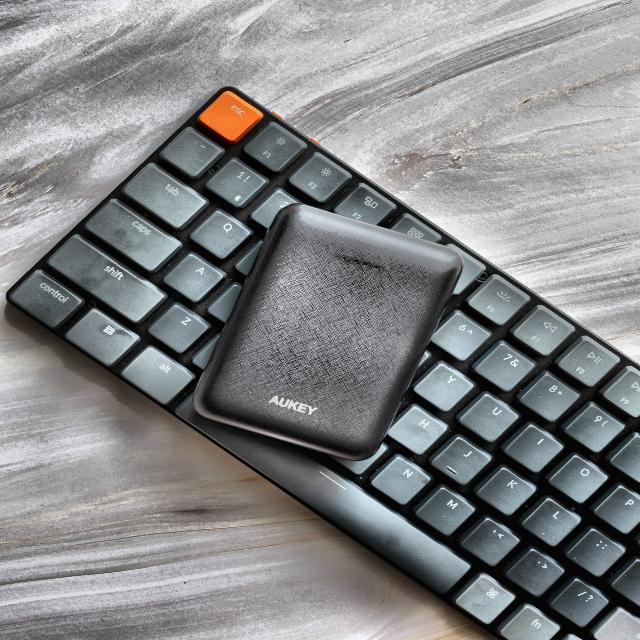Power bank: (194, 203, 463, 460)
